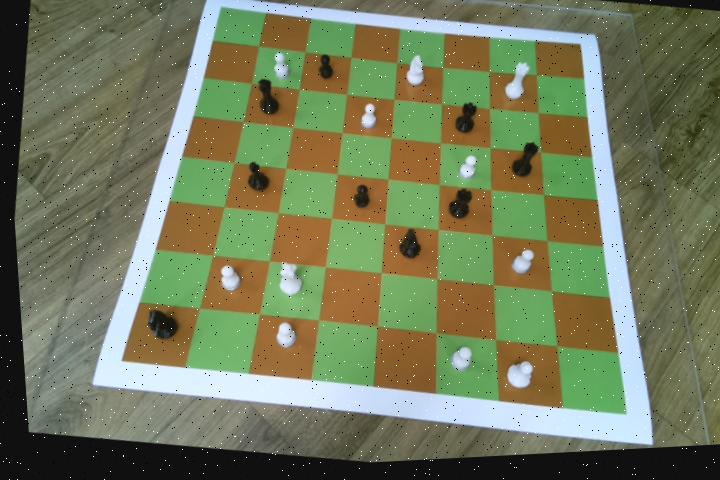chessboard-detect: (115, 9, 620, 421)
